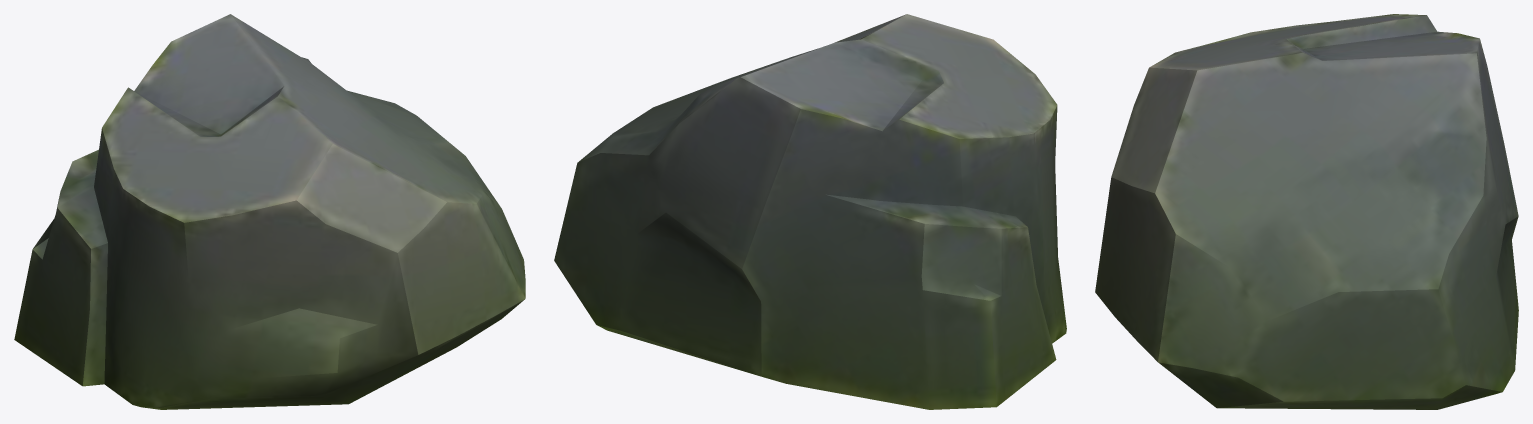
File: rock_medium_2.gltf
3 renders of one model, left to right at view 1: azimuth 30°, elevation 25°; view 2: azimuth 150°, elevation 25°; view 3: azimuth 270°, elevation 25°, orthographic. The views are drawn at different scales.
Visible parts, largest first — view 1: Rock_Medium_2; view 2: Rock_Medium_2; view 3: Rock_Medium_2.
Boxes of the visible parts, left/top/right/bottom form: Rock_Medium_2: left=14, top=14, right=525, bottom=409; Rock_Medium_2: left=554, top=14, right=1066, bottom=409; Rock_Medium_2: left=1095, top=14, right=1518, bottom=409.
Bounding box in the file's own units: 3.05 × 1.9 × 2.48.
1 material, 1 textured.
